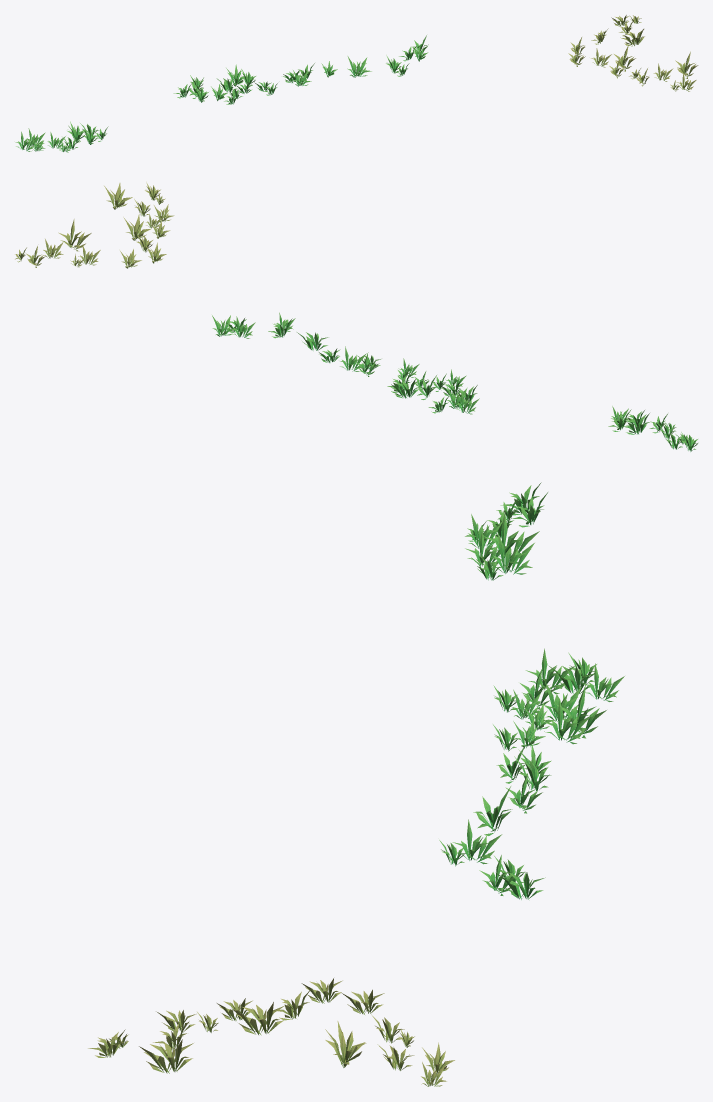
The model's file is area_12_9.fbx.
3 renders of one model, top to bottom at view 1: azimuth 30°, elevation 25°; view 2: azimuth 150°, elevation 25°; view 3: azimuth 270°, elevation 25°, orthographic. The views are drawn at different scales.
Visible parts, largest first — view 1: area_12_9; view 2: area_12_9; view 3: area_12_9.
Part boxes in pixels (x1,y1,x2,y2): area_12_9: (15, 15, 698, 152); area_12_9: (15, 182, 697, 451); area_12_9: (88, 482, 624, 1086).
Bounding box in the file's own units: 37.23 × 1.23 × 14.42.
